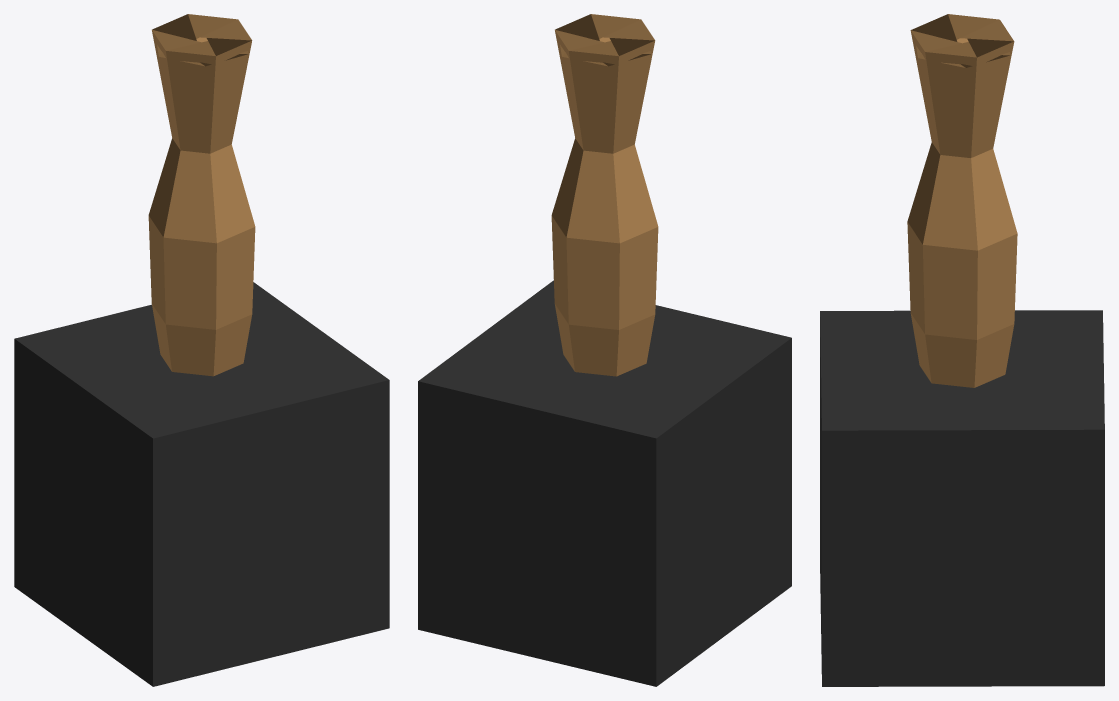
Rendered from aaaaaa.glb.
The picture shows the model from 3 angles, left to right: view 1: azimuth 30°, elevation 25°; view 2: azimuth 150°, elevation 25°; view 3: azimuth 270°, elevation 25°; orthographic projection. The views are drawn at different scales.
Visible parts, largest first — view 1: Cube.003, 1; view 2: Cube.003, 1; view 3: Cube.003, 1.
Part boxes in pixels (x1,y1,x2,y2): Cube.003: (14,282,389,686); 1: (148,14,255,376); Cube.003: (418,280,791,686); 1: (551,14,658,376); Cube.003: (820,310,1104,686); 1: (907,14,1017,387).
Bounding box in the file's own units: 2.01 × 4.61 × 2.01.
